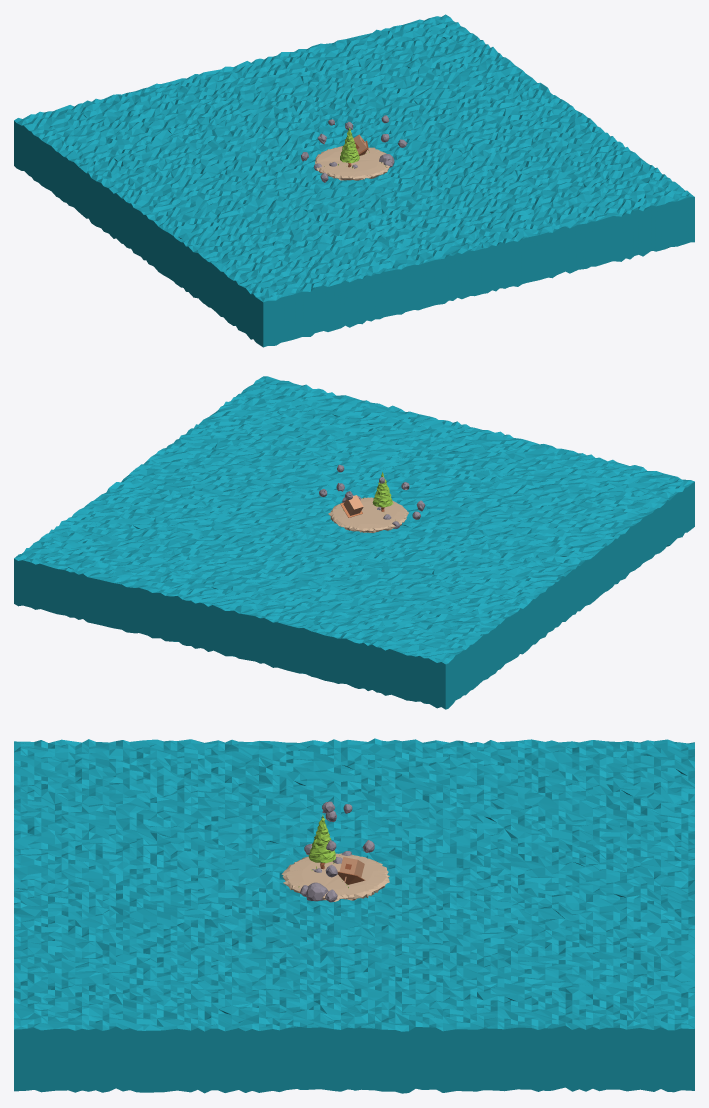
The model's file is island-scene.glb.
3 views of the same model, one above another, from view 1: azimuth 30°, elevation 25°; view 2: azimuth 150°, elevation 25°; view 3: azimuth 270°, elevation 25° (orthographic). The views are drawn at different scales.
Visible parts, largest first — view 1: Ocean001, Cone002; view 2: Ocean001, Cone002; view 3: Ocean001, Cone002, Cone001.
Part boxes in pixels (x1,y1,x2,y2): Ocean001: (14,14,694,347); Cone002: (315,146,389,180); Ocean001: (14,376,694,709); Cone002: (328,497,408,532); Ocean001: (14,738,694,1093); Cone002: (281,853,389,901); Cone001: (308,814,335,863).
Size of the model in its own units: 5 by 1.05 by 5.
